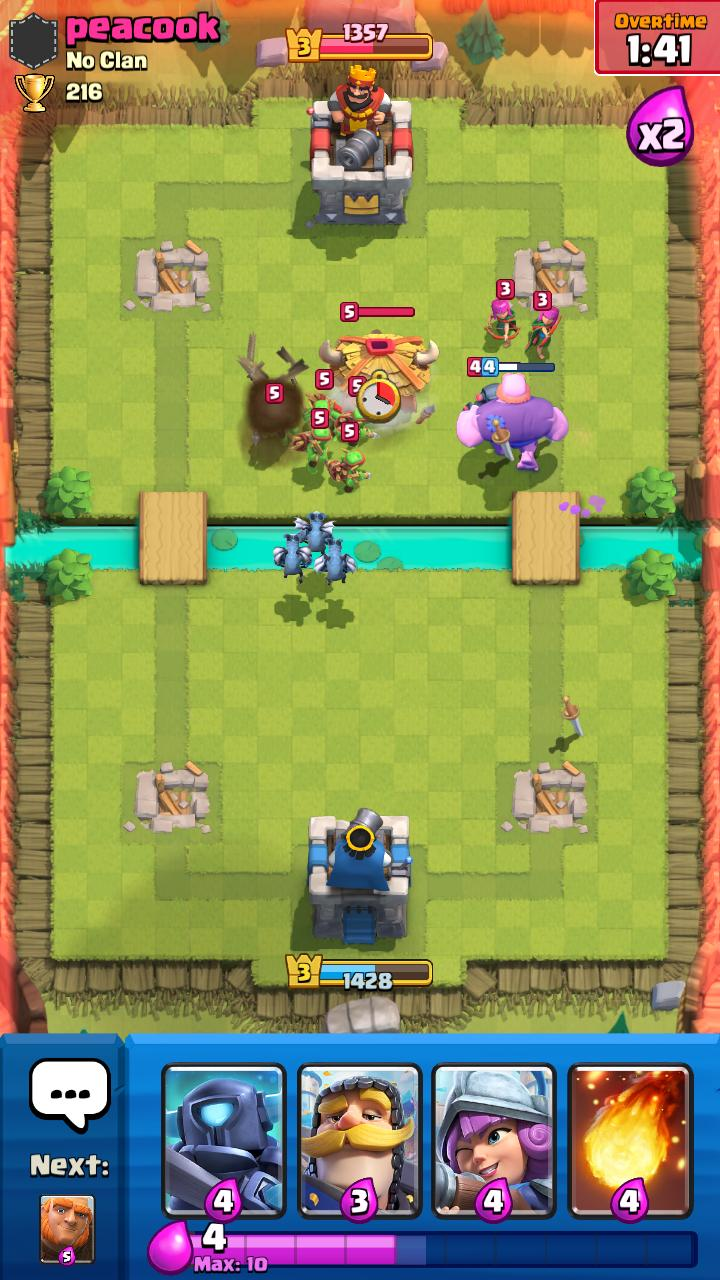ally: (457, 358, 569, 472), (273, 534, 313, 584), (313, 538, 356, 584), (294, 511, 337, 554)
enemy: (319, 302, 439, 426), (309, 422, 373, 493), (331, 376, 381, 448), (298, 368, 342, 442), (463, 357, 521, 411), (252, 384, 298, 446), (290, 408, 333, 474), (485, 278, 521, 348), (525, 291, 562, 359)
